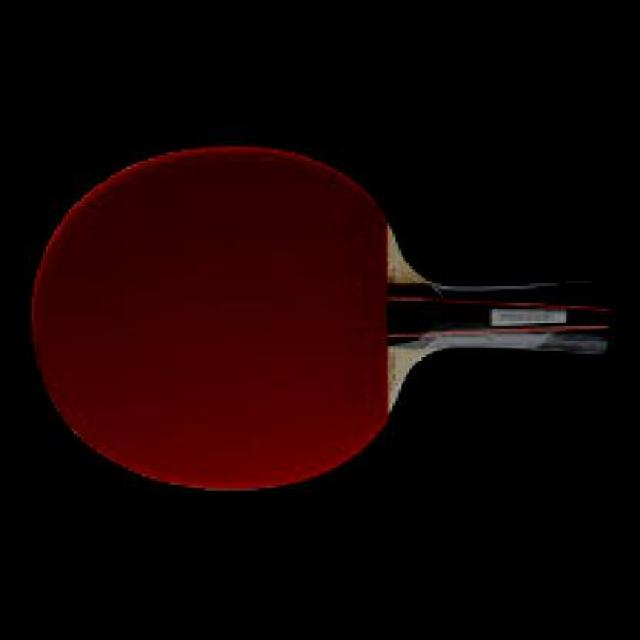table_tennis_racket: (21, 133, 422, 499)
